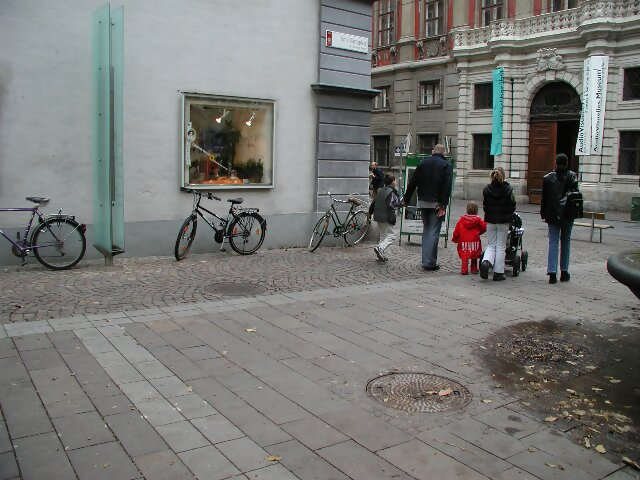person: (403, 140, 454, 273), (539, 152, 585, 287), (477, 165, 519, 281), (369, 170, 402, 264), (450, 203, 490, 274)
